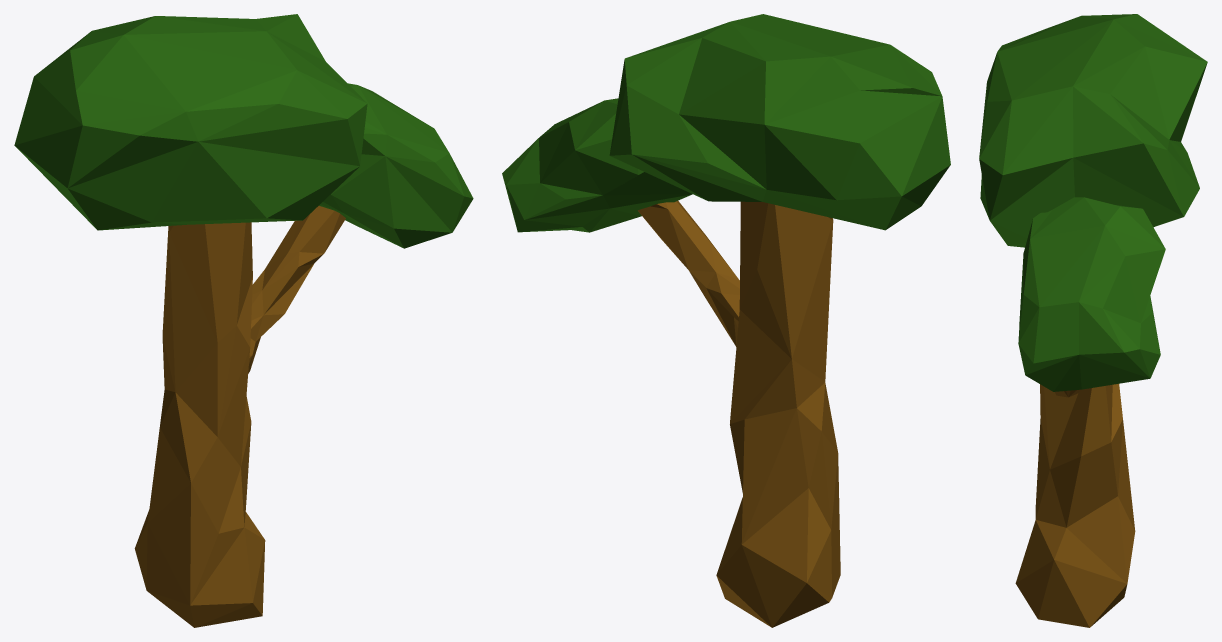
File: pruebaarbol.fbx
3 views of the same model, side by side, from view 1: azimuth 30°, elevation 25°; view 2: azimuth 150°, elevation 25°; view 3: azimuth 270°, elevation 25° (orthographic). The views are drawn at different scales.
Parts seen in each view (by area): view 1: tree2_low; view 2: tree2_low; view 3: tree2_low.
Part boxes in pixels (x1,y1,x2,y2): tree2_low: (14,14,473,627); tree2_low: (502,14,950,627); tree2_low: (979,14,1207,627).
Bounding box in the file's own units: 283 × 379 × 142.
